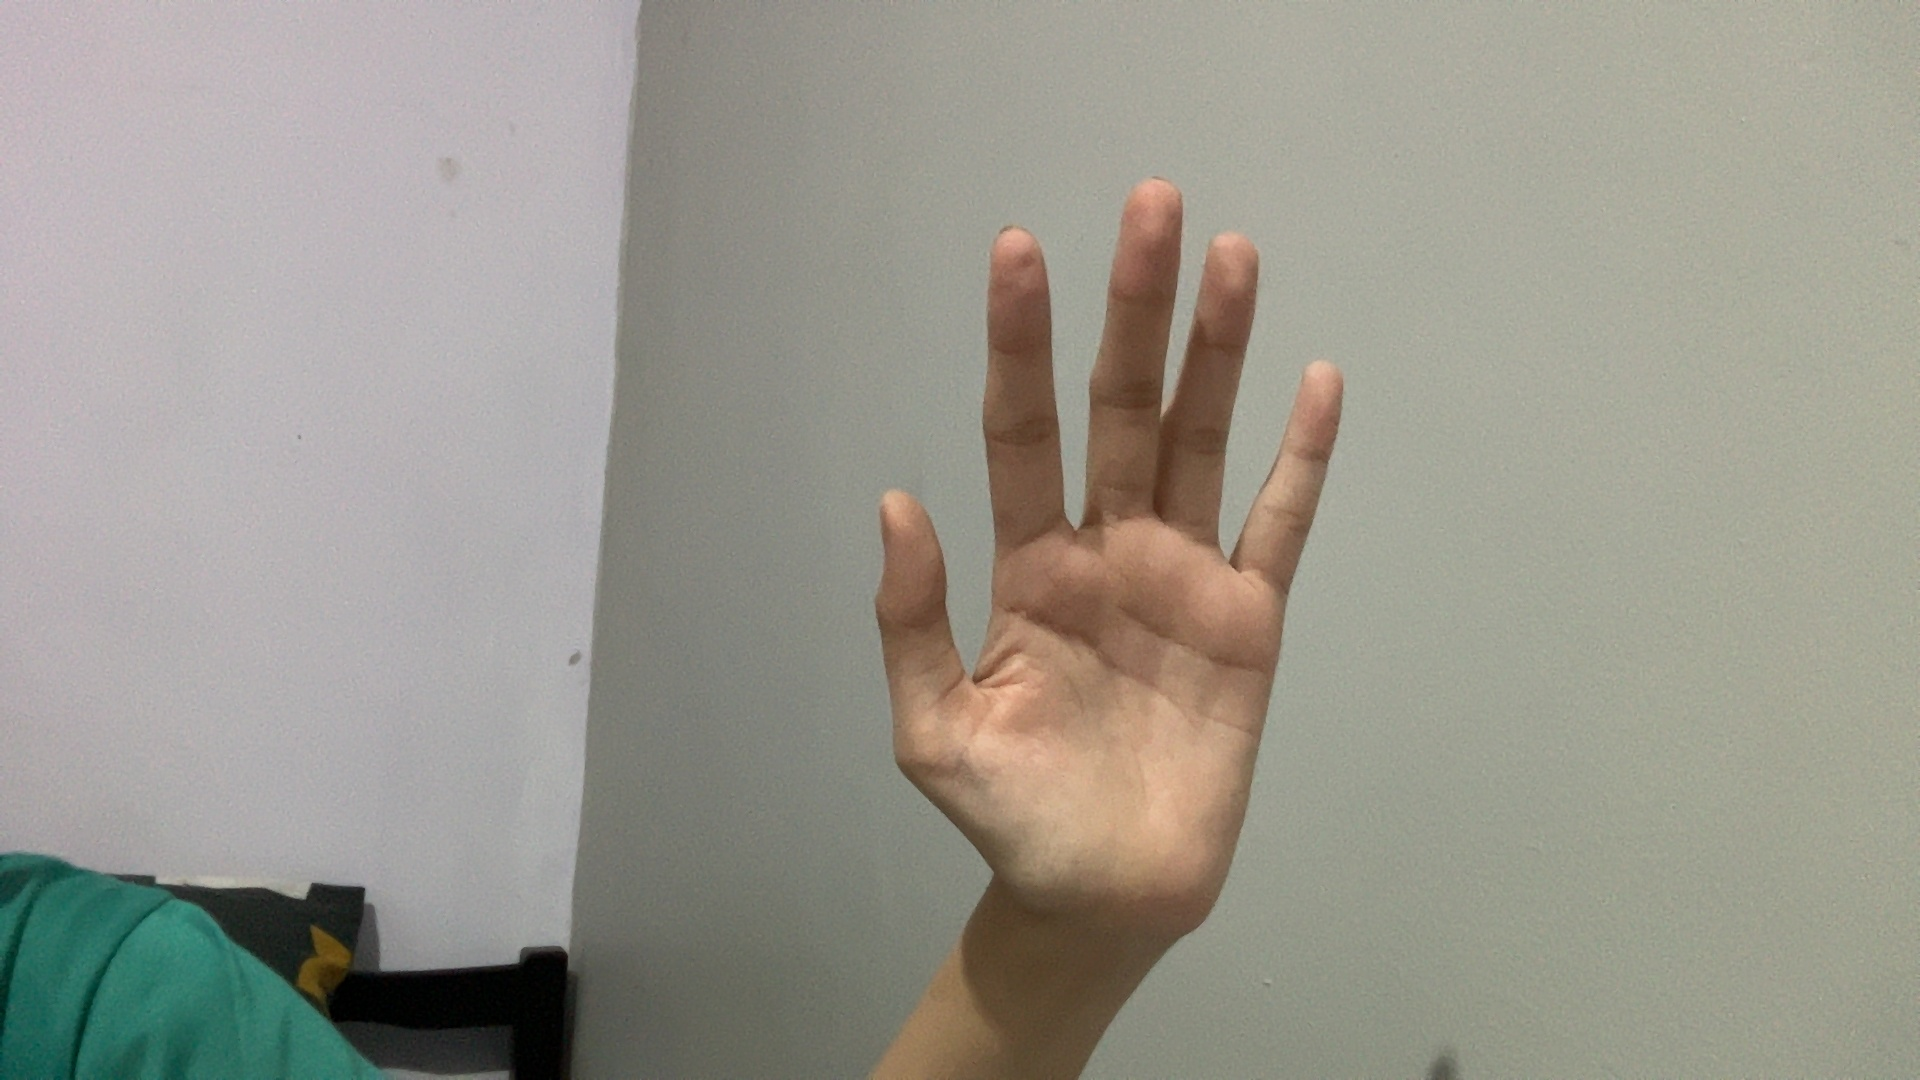Hello: (717, 105, 1548, 1013)
